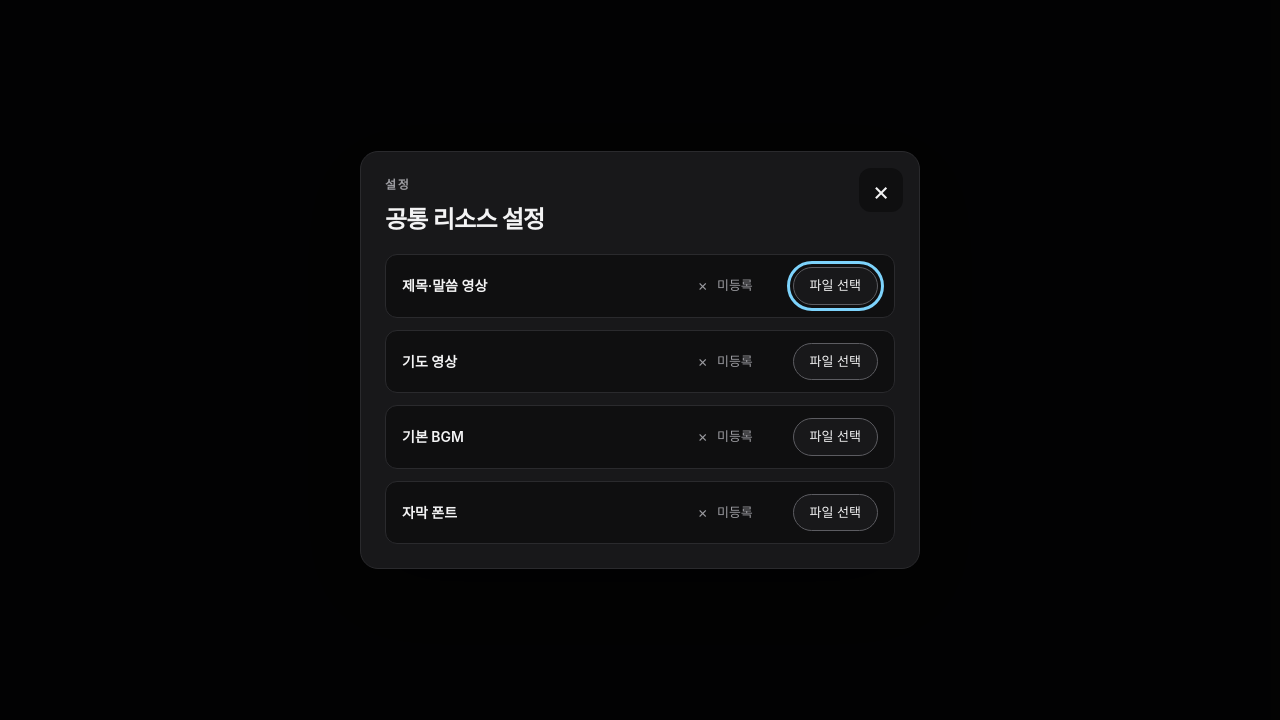
Scenario: SettingsDialog › 오류 응답 시 해당 행에 에러 메시지를 표시함
The width and height of the screenshot is (1280, 720).
Click the button with aria-label "제목·말씀 영상 파일 선택".
click(835, 286)  # box [792,267,878,304]
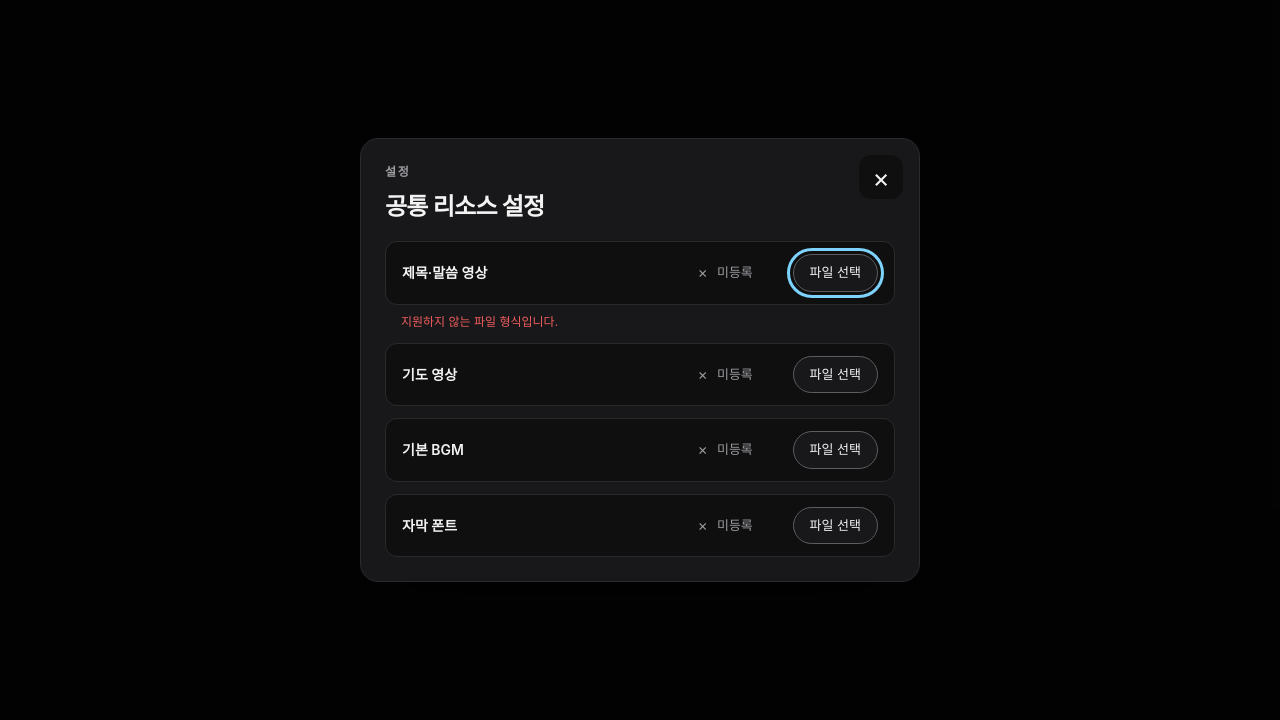
Expected: the text "지원하지 않는 파일 형식입니다." is shown, [401,314,558,328]
